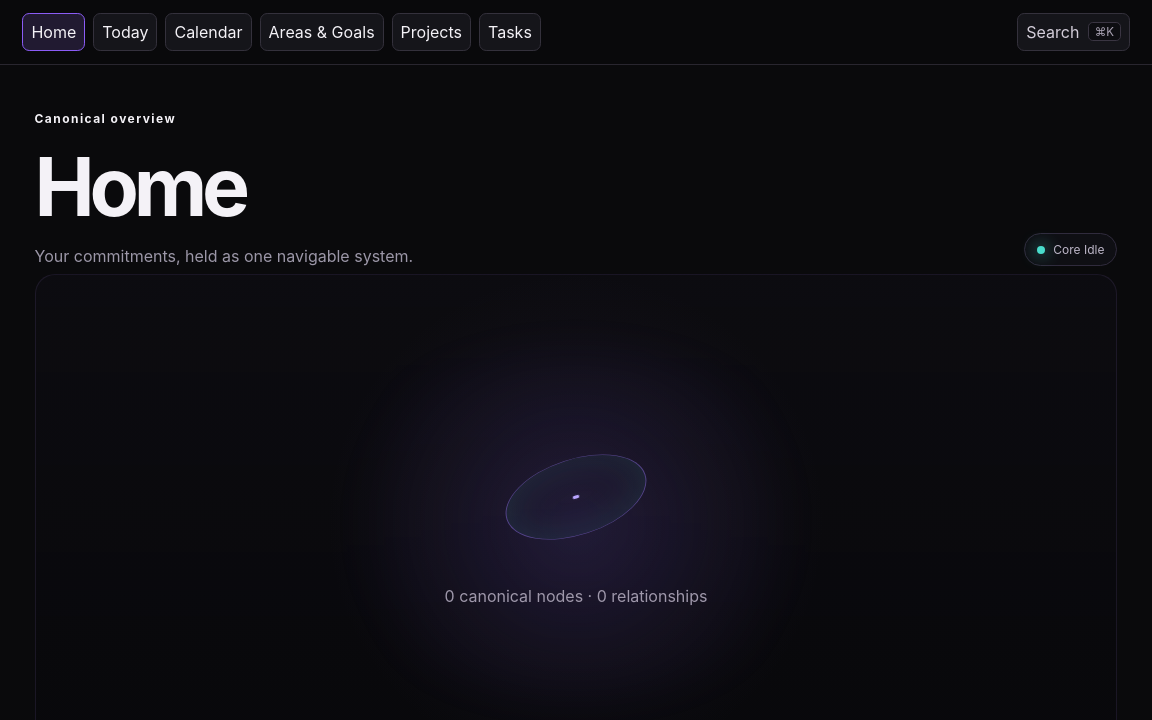
Scenario: shows Home first and the milestone-local workspaces through narrow commands
The image size is (1152, 720).
Expected: the heading "Home" is shown, left=34, top=138, right=245, bottom=235
Click the button "Areas & Goals" at x=322, y=32, box left=260, top=13, right=384, bottom=51
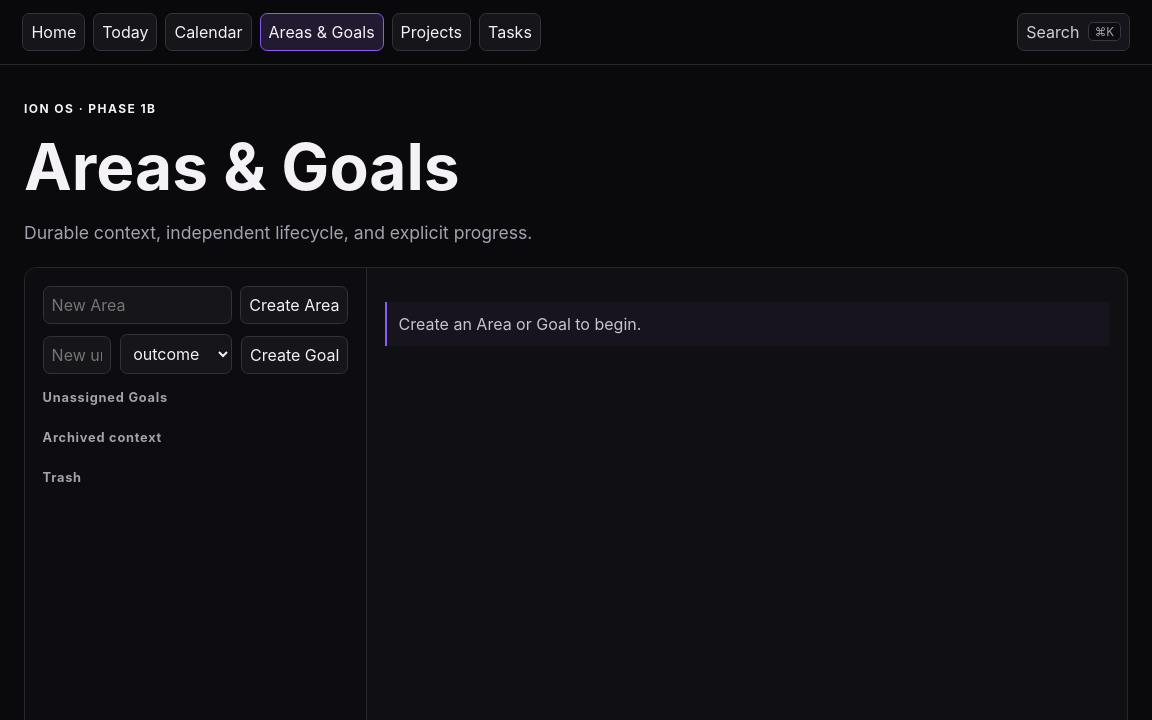
Expected: the heading "Areas & Goals" is shown, left=24, top=128, right=460, bottom=205
Click the button "Tasks" at x=510, y=32, box left=479, top=13, right=541, bottom=51
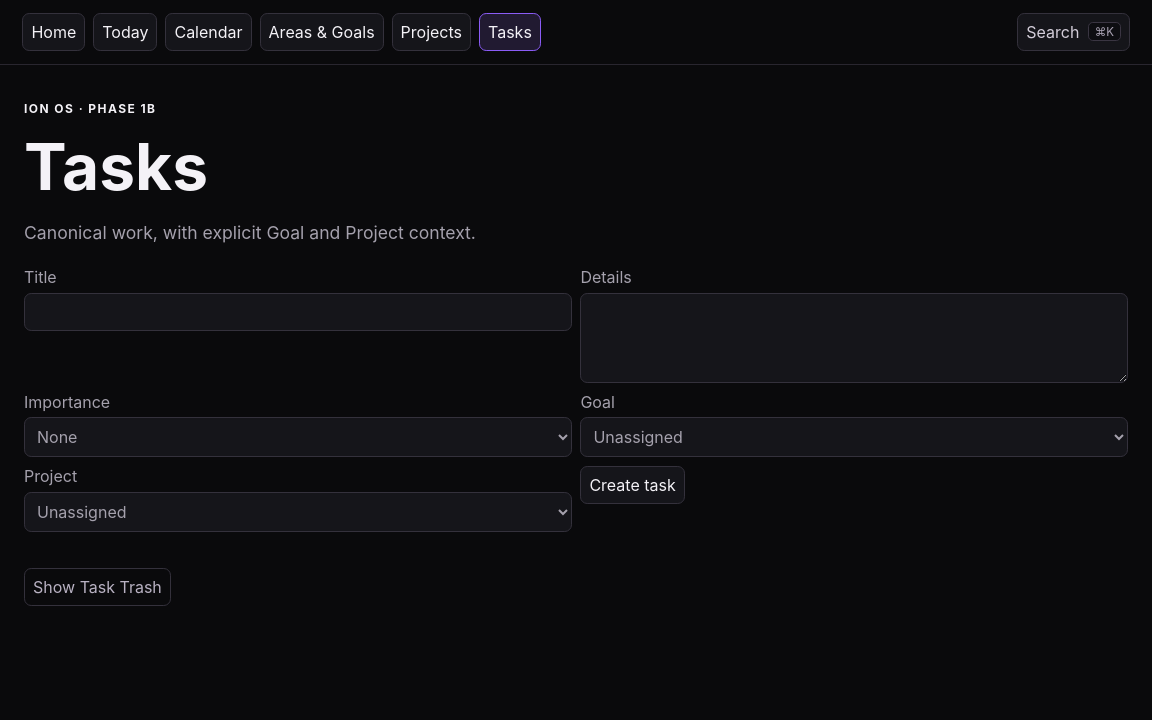
Expected: the heading "Tasks" is shown, left=24, top=128, right=208, bottom=205
